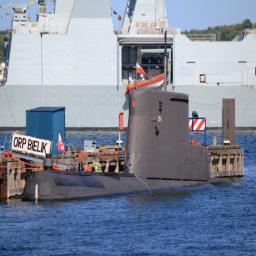submarine: (24, 86, 212, 201)
